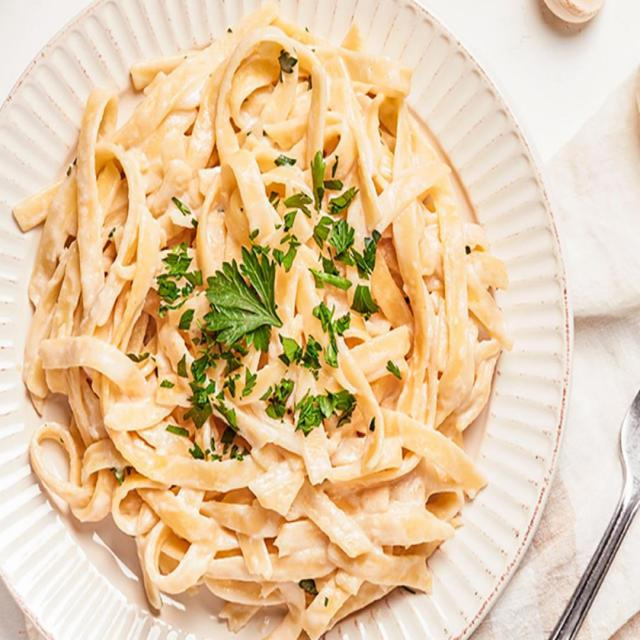pasta: (9, 19, 514, 639)
